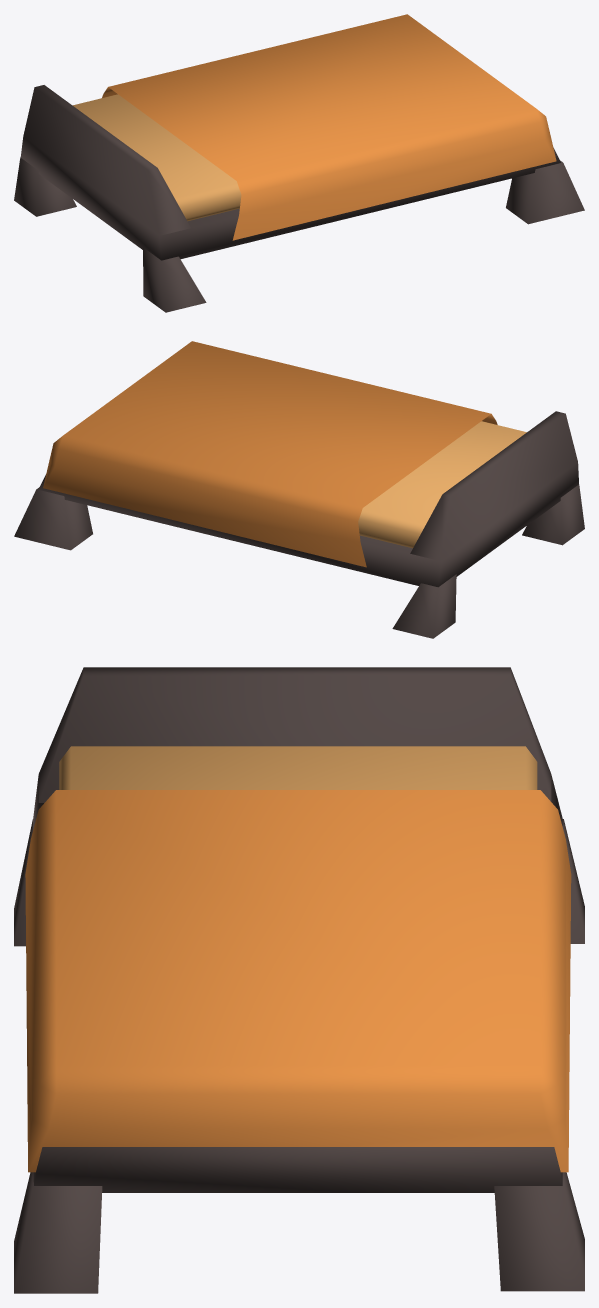
Rendered from SM_Lit01_70.fbx.
The picture shows the model from 3 angles, top to bottom: view 1: azimuth 30°, elevation 25°; view 2: azimuth 150°, elevation 25°; view 3: azimuth 270°, elevation 25°; orthographic projection. The views are drawn at different scales.
Visible parts, largest first — view 1: SM_LitDouble; view 2: SM_LitDouble; view 3: SM_LitDouble.
Boxes of the visible parts, <box> form: SM_LitDouble: <box>14,14,584,312</box>; SM_LitDouble: <box>14,341,584,638</box>; SM_LitDouble: <box>14,667,584,1293</box>.
Size of the model in its own units: 140 by 223 by 65.51.
